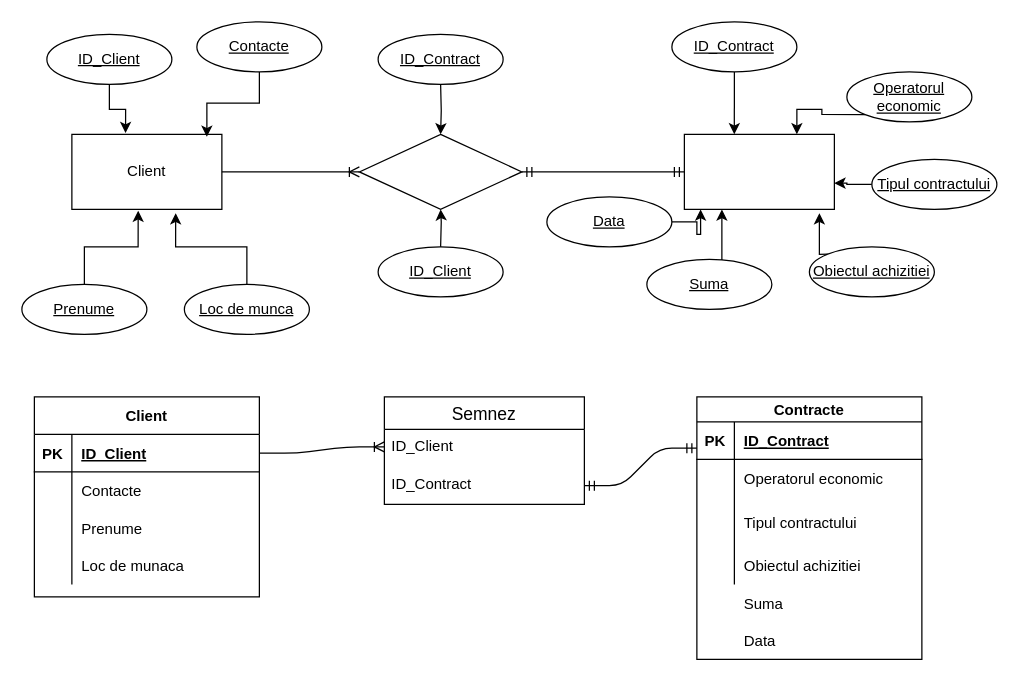
This 1019x681 diagram has some shape labels left out. Each missing label, with the centre of its shape:
"Contract" goes at point 758,171.
"Semneaza" goes at point 440,171.
